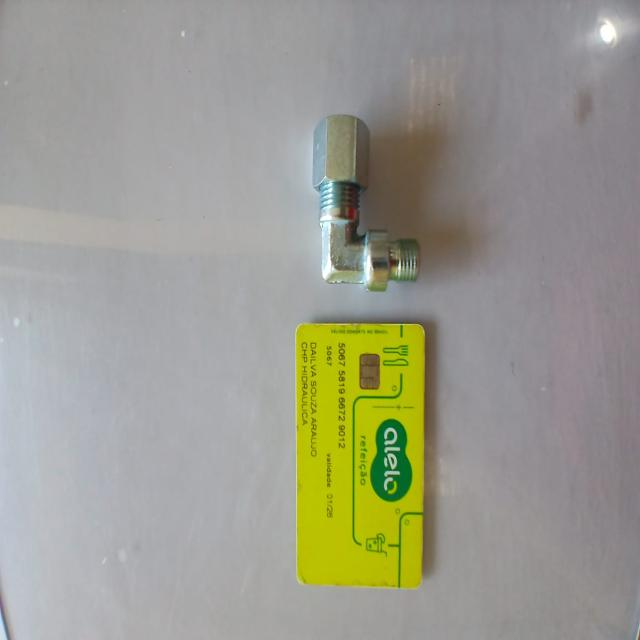cartao: (296, 324, 424, 589)
rosca_externa: (314, 116, 420, 292)
